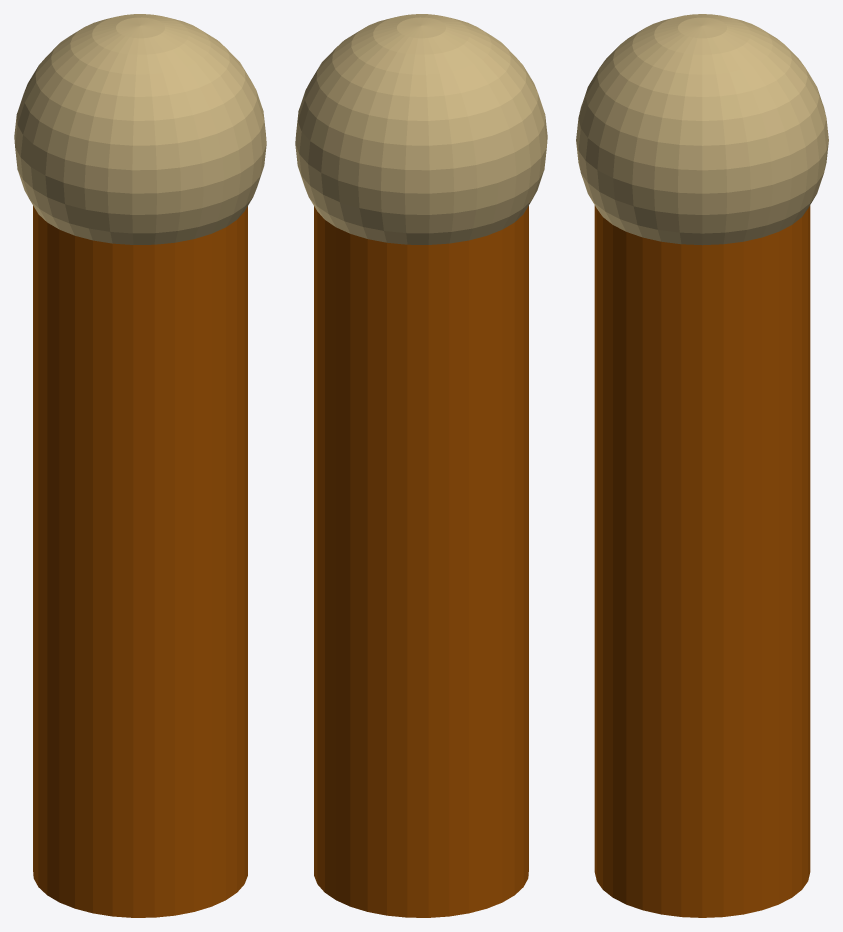
Rendered from monkee_arm.glb.
3 renders of one model, left to right at view 1: azimuth 30°, elevation 25°; view 2: azimuth 150°, elevation 25°; view 3: azimuth 270°, elevation 25°, orthographic.
Parts seen in each view (by area): view 1: Right Arm, Right Elbow; view 2: Right Arm, Right Elbow; view 3: Right Arm, Right Elbow.
Part boxes in pixels (x1,y1,x2,y2): Right Arm: (33, 206, 247, 917); Right Elbow: (14, 14, 266, 244); Right Arm: (314, 206, 528, 917); Right Elbow: (295, 14, 547, 244); Right Arm: (594, 205, 810, 917); Right Elbow: (576, 14, 828, 245).
Size of the model in its own units: 0.322 by 1.19 by 0.322.
